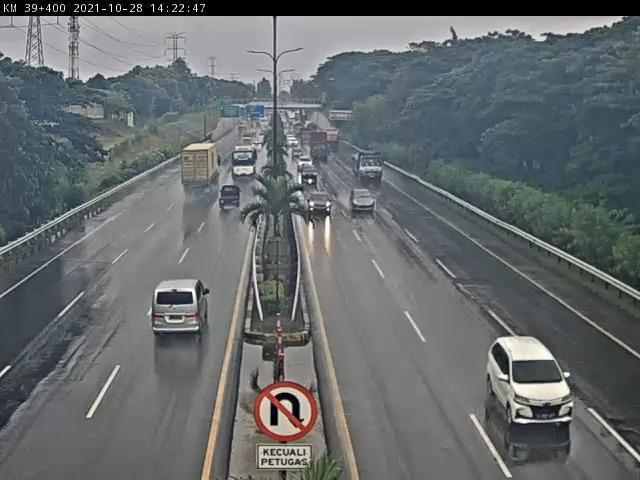bus: (233, 147, 261, 180)
truck: (178, 141, 225, 195), (351, 148, 385, 184)
